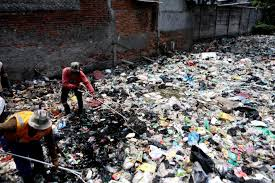garbage: (96, 75, 275, 181), (162, 51, 275, 179), (61, 117, 275, 180)
